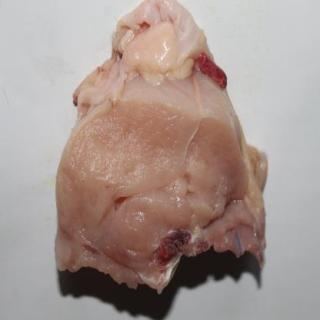Ayam: (58, 2, 268, 289)
